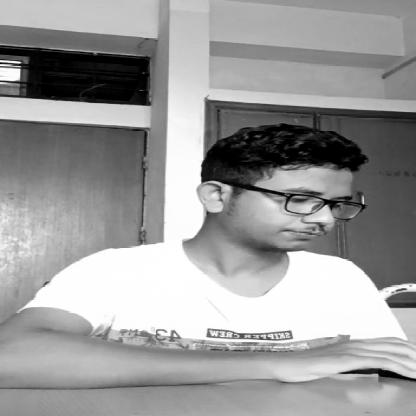Distracted: (213, 134, 370, 244)
